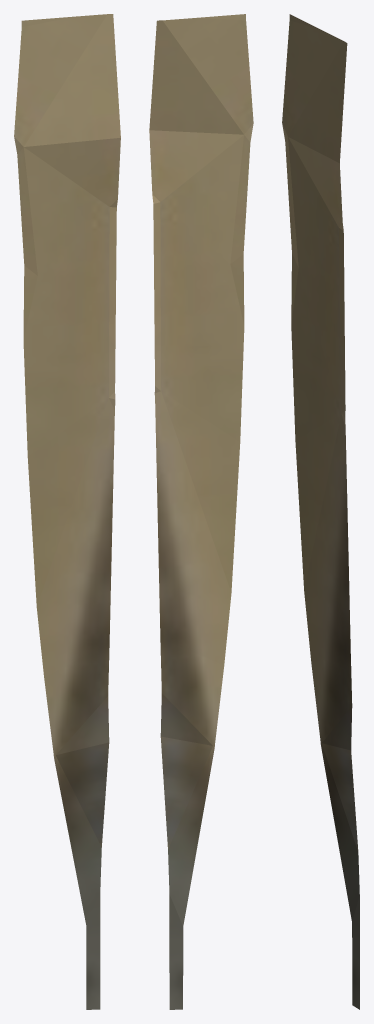
3 renders of one model, left to right at view 1: azimuth 30°, elevation 25°; view 2: azimuth 210°, elevation 25°; view 3: azimuth 330°, elevation 25°, orthographic. The views are drawn at different scales.
Bounding box in the file's own units: 0.0725 × 0.8374 × 0.0358.
Materials: 1 (1 with a texture image).
